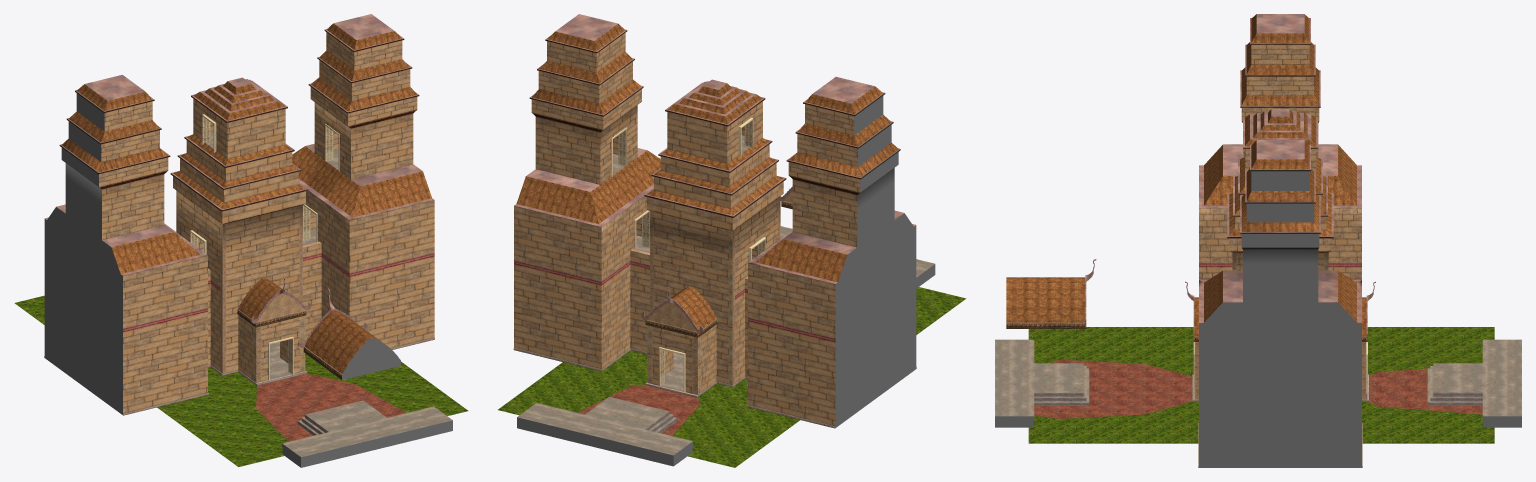
File: LVL2_Temple03.fbx
3 renders of one model, left to right at view 1: azimuth 30°, elevation 25°; view 2: azimuth 150°, elevation 25°; view 3: azimuth 270°, elevation 25°, orthographic. The views are drawn at different scales.
Parts seen in each view (by area): view 1: Box159, Plane019, Box155, Box156, Box163; view 2: Box159, Plane019, Box173, Box160, Box155; view 3: Box159, Plane019, Box155, Box173, Box156.
Part boxes in pixels (<box>): Box159: <box>44,14,434,415</box>; Plane019: <box>14,295,468,466</box>; Box155: <box>282,400,452,467</box>; Box156: <box>303,310,400,379</box>; Box163: <box>237,278,306,327</box>; Box159: <box>513,14,916,428</box>; Plane019: <box>498,287,966,467</box>; Box173: <box>517,397,692,466</box>; Box160: <box>645,286,717,337</box>; Box155: <box>780,226,935,288</box>; Box159: <box>1192,14,1368,467</box>; Plane019: <box>1028,327,1494,443</box>; Box155: <box>995,339,1089,427</box>; Box173: <box>1427,339,1521,427</box>; Box156: <box>1006,277,1086,328</box>.
Size of the model in its own units: 5382 by 4671 by 7374.
